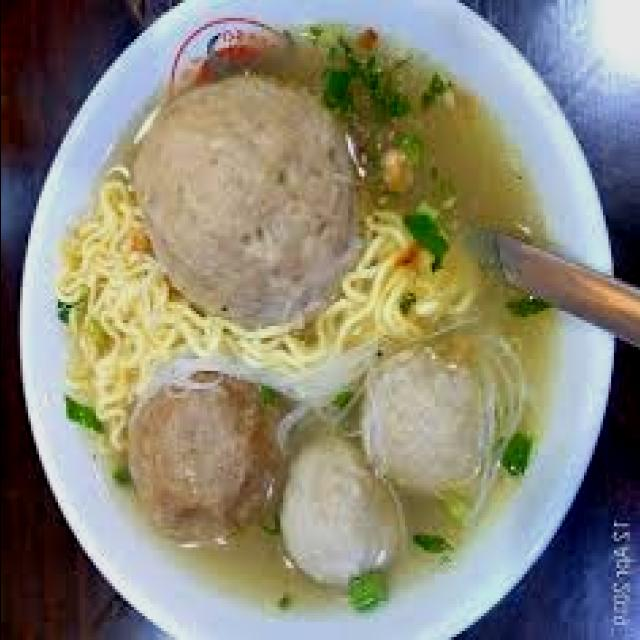bakso: (54, 30, 545, 610)
